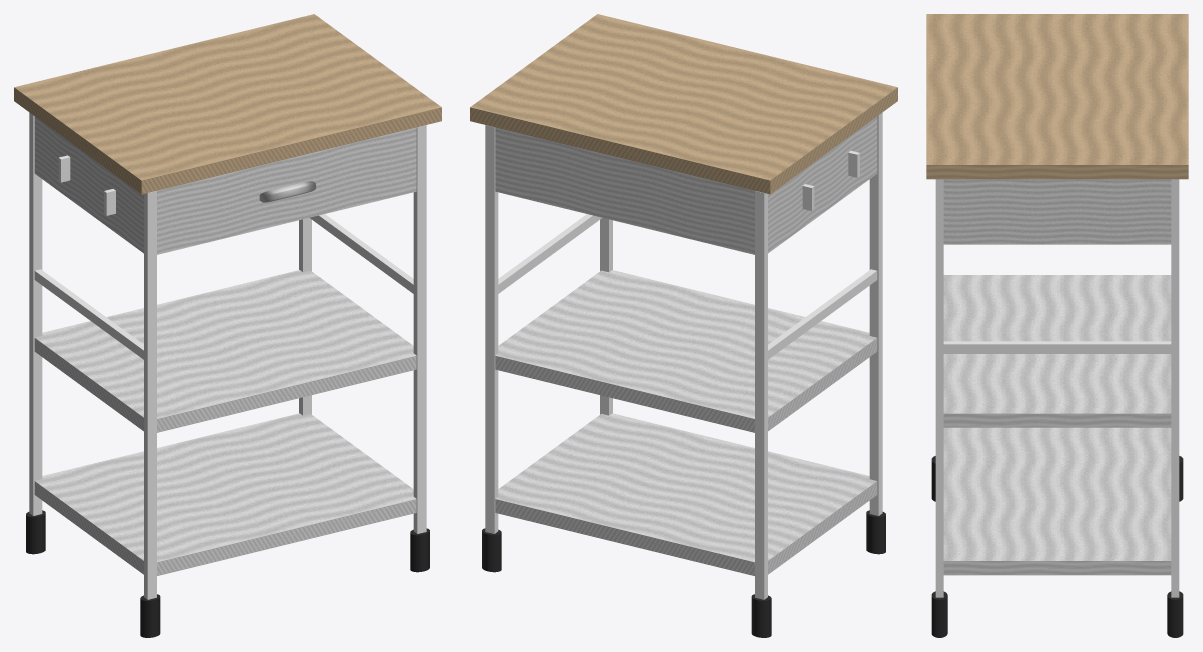
3 renders of one model, left to right at view 1: azimuth 30°, elevation 25°; view 2: azimuth 150°, elevation 25°; view 3: azimuth 270°, elevation 25°, orthographic. The views are drawn at different scales.
Parts seen in each view (by area): view 1: 1 top_board, 5 bottom_shelf, 4 middle_shelf, 2 drawer_box, 7 leg_front_right, 6 leg_front_left, 8 leg_back_left, 10 left_side_rail, 11 right_side_rail, 9 leg_back_right, 12 wheel_front_left, 13 wheel_front_right (+2 smaller); view 2: 1 top_board, 5 bottom_shelf, 4 middle_shelf, 2 drawer_box, 9 leg_back_right, 8 leg_back_left, 6 leg_front_left, 10 left_side_rail, 11 right_side_rail, 7 leg_front_right, 14 wheel_back_left, 15 wheel_back_right (+1 smaller); view 3: 1 top_board, 5 bottom_shelf, 4 middle_shelf, 2 drawer_box, 7 leg_front_right, 9 leg_back_right, 11 right_side_rail, 13 wheel_front_right, 15 wheel_back_right.
Part boxes in pixels (bbox=[...]): 1 top_board: bbox=[14, 14, 441, 194]; 5 bottom_shelf: bbox=[34, 413, 416, 575]; 4 middle_shelf: bbox=[34, 270, 416, 432]; 2 drawer_box: bbox=[34, 116, 416, 254]; 7 leg_front_right: bbox=[413, 125, 426, 533]; 6 leg_front_left: bbox=[144, 191, 156, 599]; 8 leg_back_left: bbox=[29, 112, 42, 515]; 10 left_side_rail: bbox=[34, 269, 143, 359]; 11 right_side_rail: bbox=[309, 214, 413, 293]; 9 leg_back_right: bbox=[299, 218, 311, 415]; 12 wheel_front_left: bbox=[140, 594, 160, 637]; 13 wheel_front_right: bbox=[410, 528, 429, 572]; 1 top_board: bbox=[470, 14, 897, 194]; 5 bottom_shelf: bbox=[495, 413, 877, 575]; 4 middle_shelf: bbox=[495, 270, 877, 432]; 2 drawer_box: bbox=[495, 116, 877, 254]; 9 leg_back_right: bbox=[485, 125, 498, 533]; 8 leg_back_left: bbox=[755, 191, 767, 599]; 6 leg_front_left: bbox=[869, 112, 882, 515]; 10 left_side_rail: bbox=[768, 269, 877, 359]; 11 right_side_rail: bbox=[498, 214, 602, 293]; 7 leg_front_right: bbox=[600, 218, 612, 415]; 14 wheel_back_left: bbox=[751, 594, 771, 637]; 15 wheel_back_right: bbox=[482, 528, 501, 572]; 1 top_board: bbox=[926, 14, 1188, 179]; 5 bottom_shelf: bbox=[943, 427, 1171, 575]; 4 middle_shelf: bbox=[943, 275, 1171, 427]; 2 drawer_box: bbox=[943, 179, 1171, 244]; 7 leg_front_right: bbox=[935, 179, 943, 597]; 9 leg_back_right: bbox=[1171, 179, 1179, 597]; 11 right_side_rail: bbox=[943, 341, 1171, 353]; 13 wheel_front_right: bbox=[931, 591, 947, 637]; 15 wheel_back_right: bbox=[1167, 591, 1183, 637].
Size of the model in its own units: 0.68 by 1 by 0.5.
6 materials, 2 textured.
